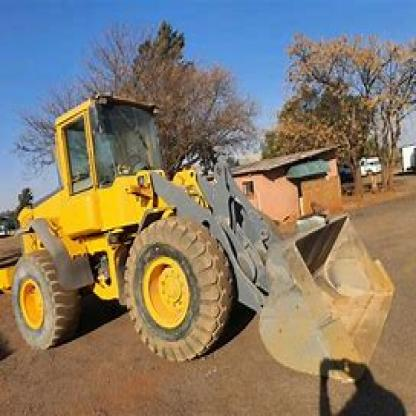bull_dozer/loader/grader: (3, 82, 415, 386)
